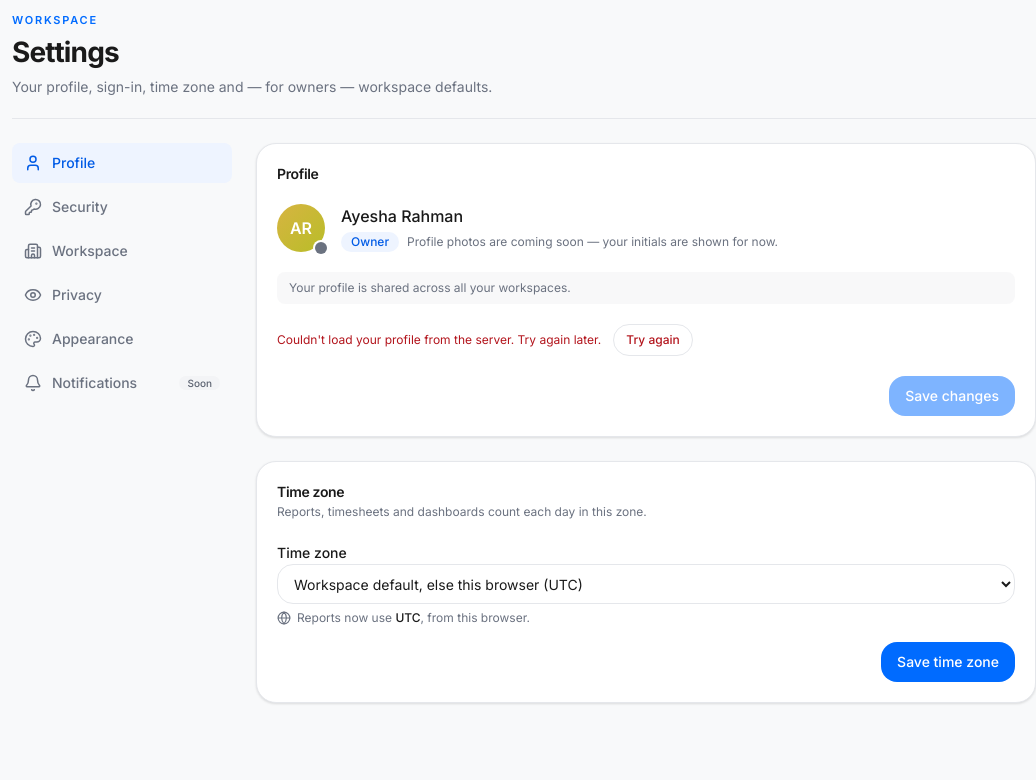
Scenario: settings page — live password change › checks the two new entries match before sending anything
The image size is (1036, 780).
Click the tab "Security". click: click(122, 207)
box: [12,187,232,227]
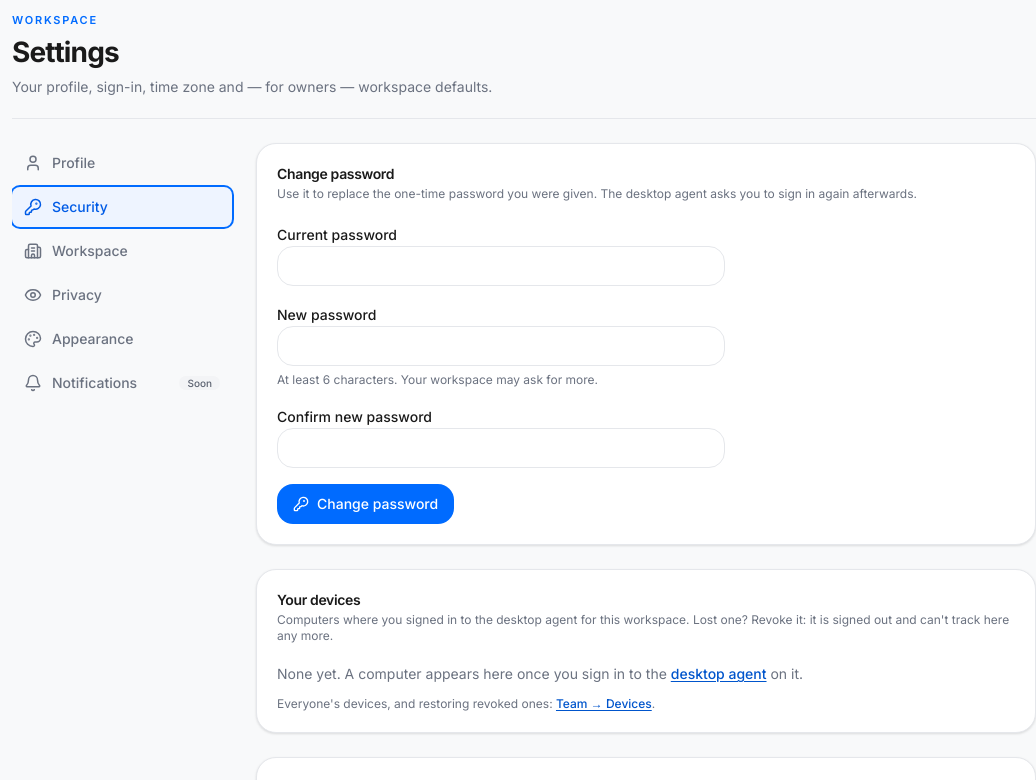
Type "old-secret-1" into the password field labelled "Current password". click: (501, 266)
box: [277,246,725,286]
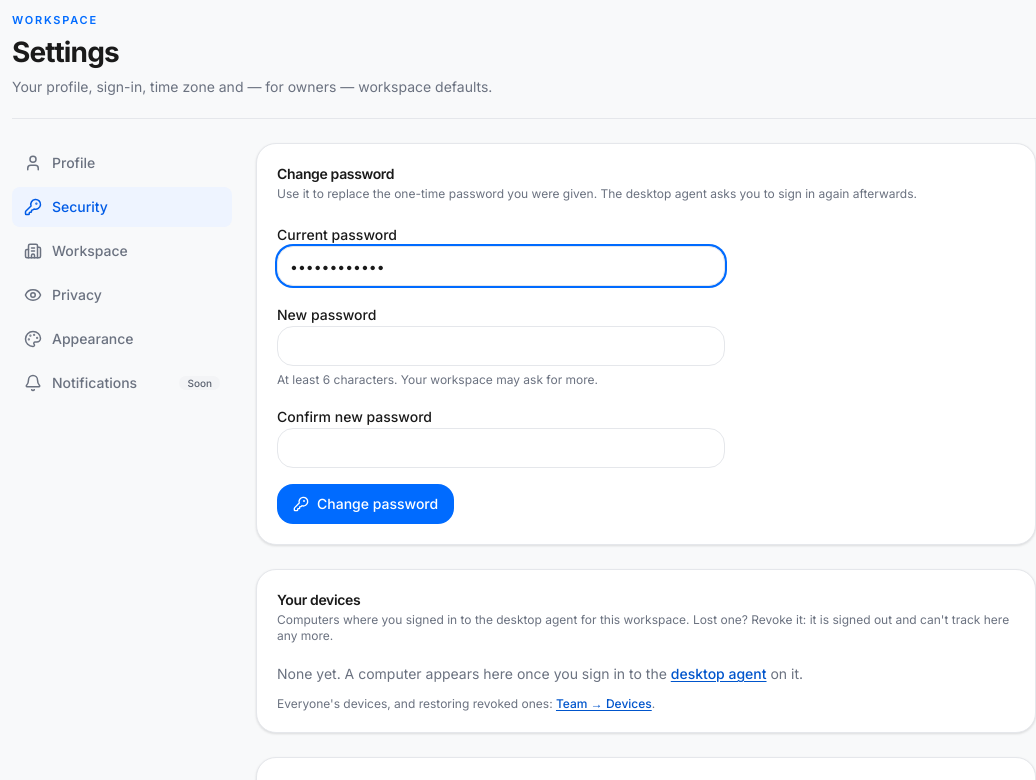
Type "brand-new-9" into the password field labelled "New password". click: (501, 346)
box: [277,326,725,366]
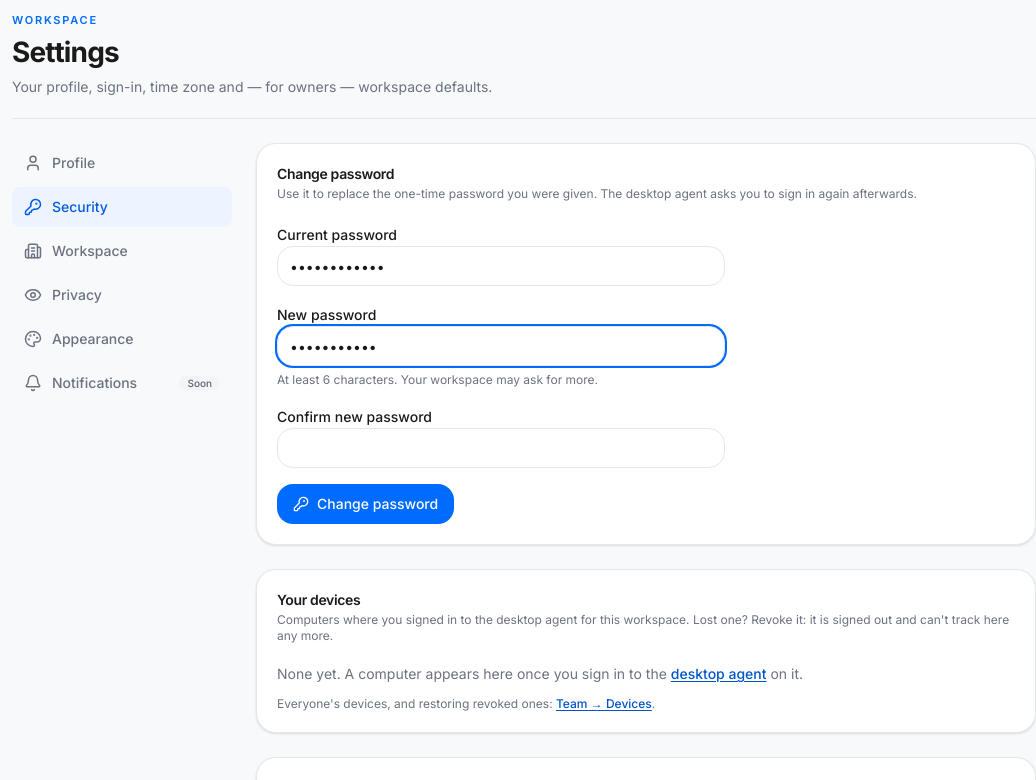
Type "brand-new-8" into the password field labelled "Confirm new password". click: (501, 448)
box: [277,428,725,468]
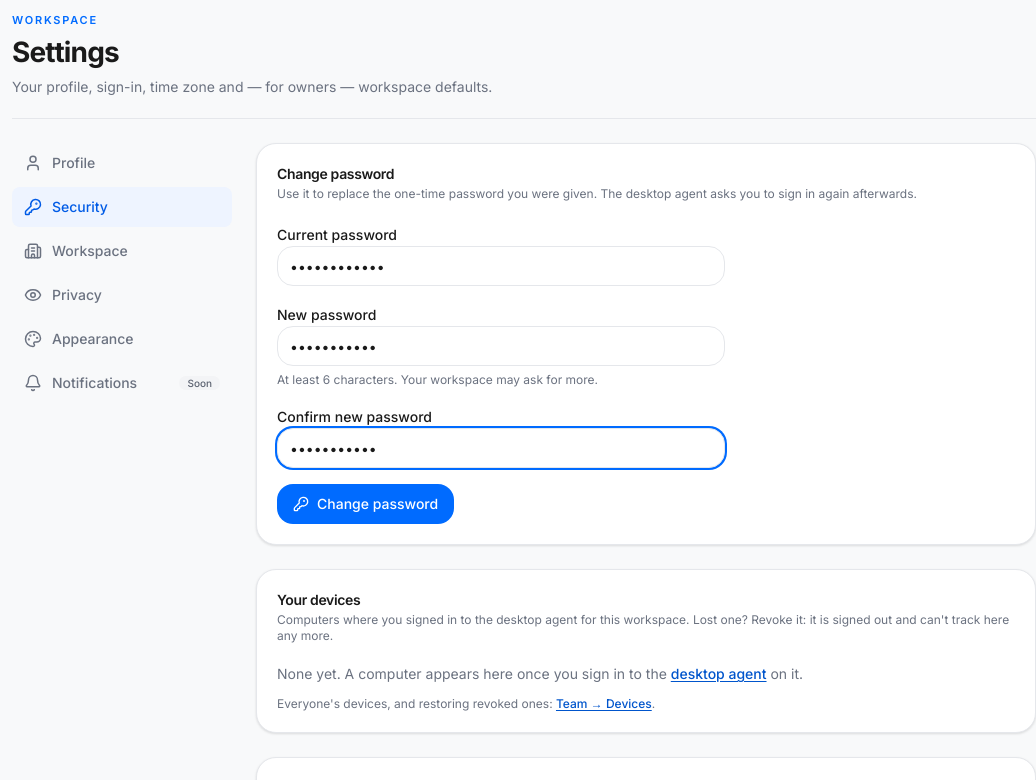
Click the button "Change password". click: click(366, 504)
box: [277,484,454,524]
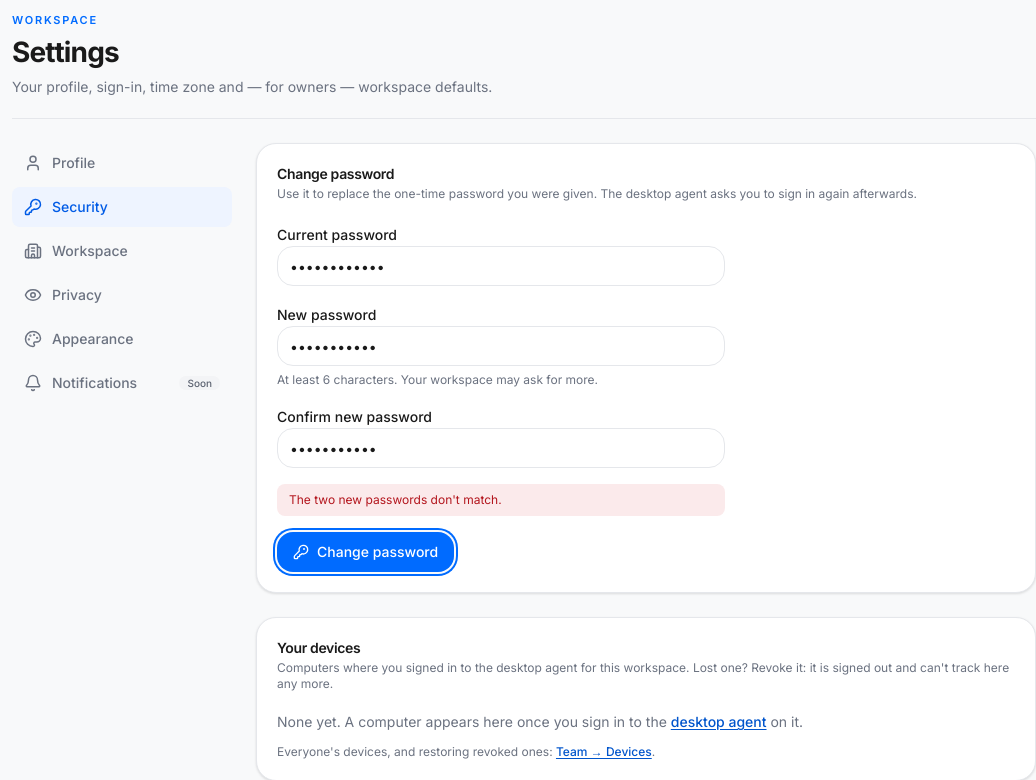
Expected: the text "The two new passwords don't match." is shown, [277,484,725,516]
